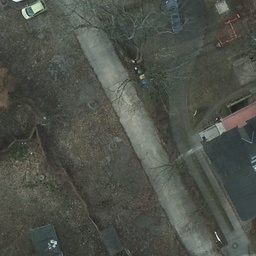car: (164, 0, 186, 36), (22, 0, 48, 21), (10, 0, 40, 4)
